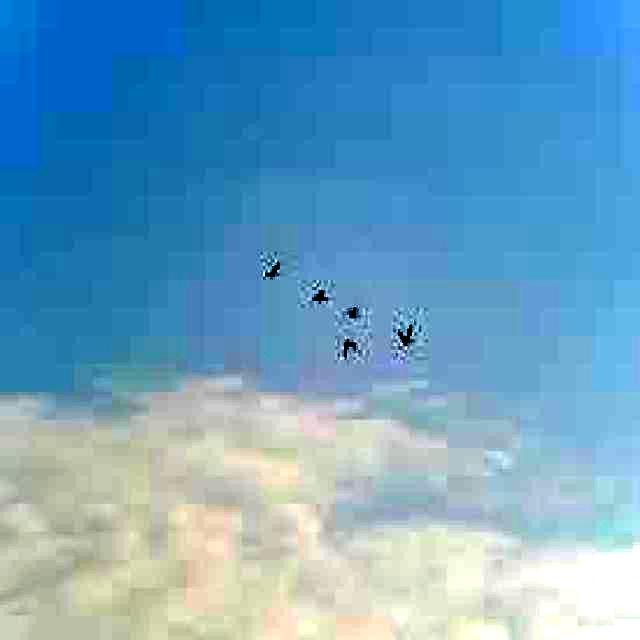bird: (259, 255, 291, 289), (339, 299, 375, 329), (394, 322, 415, 351), (309, 282, 333, 306), (340, 335, 360, 361)
